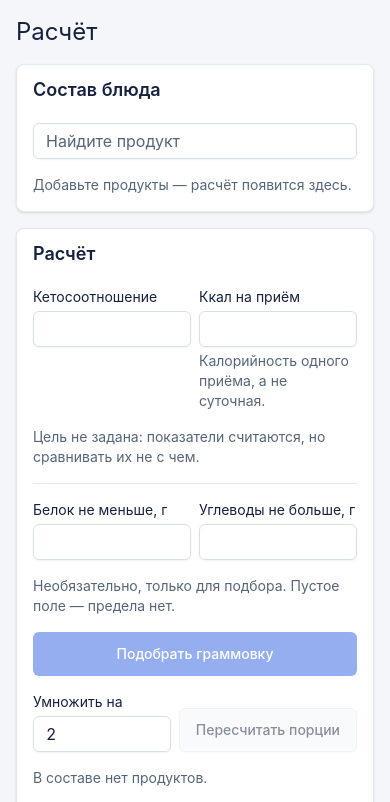
Test: калькулятор в Mini App › о связи говорит один голос: расчёт, а не ещё и поиск
Type "масло" into the search field labelled "Найдите продукт". click: (195, 141)
box: [33,123,357,159]
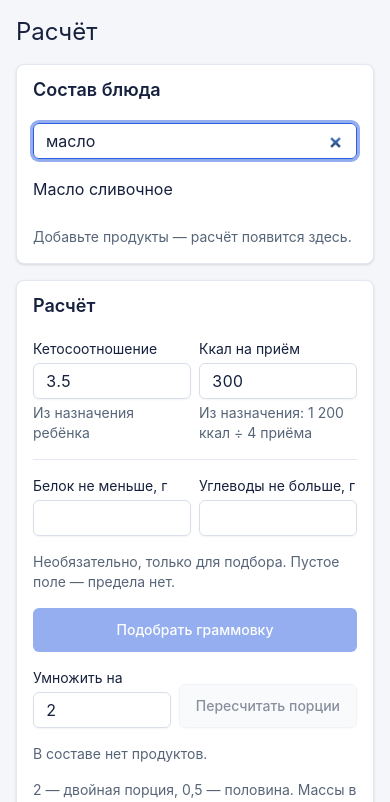
Click the button "Масло сливочное". click: (103, 189)
box: [33,167,357,211]
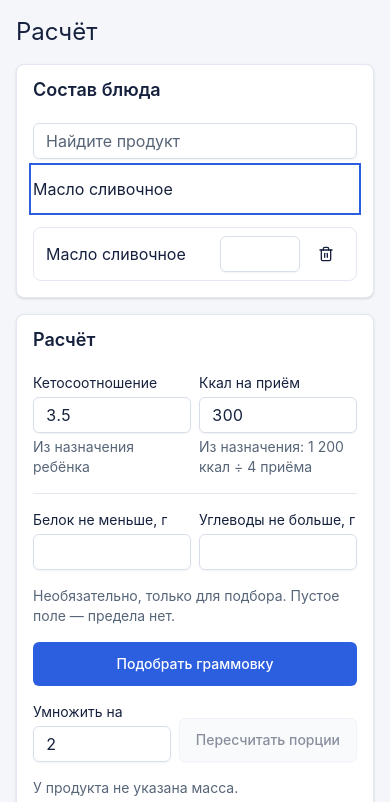
Type "30" into the field named "Масло сливочное, граммы". click: (260, 254)
box: [220,236,300,272]
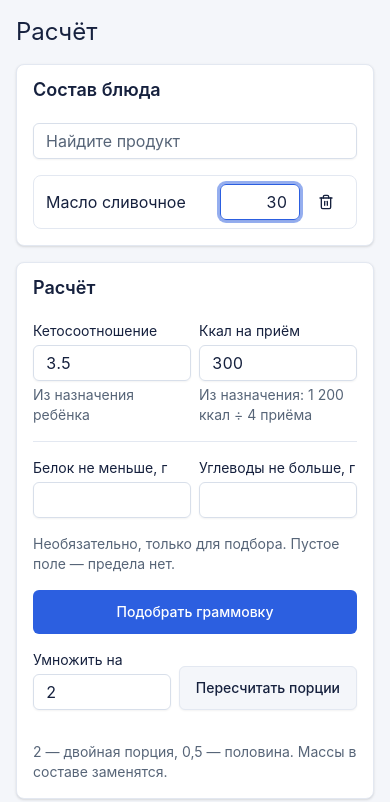
Type "5" into the field named "Масло сливочное, граммы". click: (260, 202)
box: [220,184,300,220]
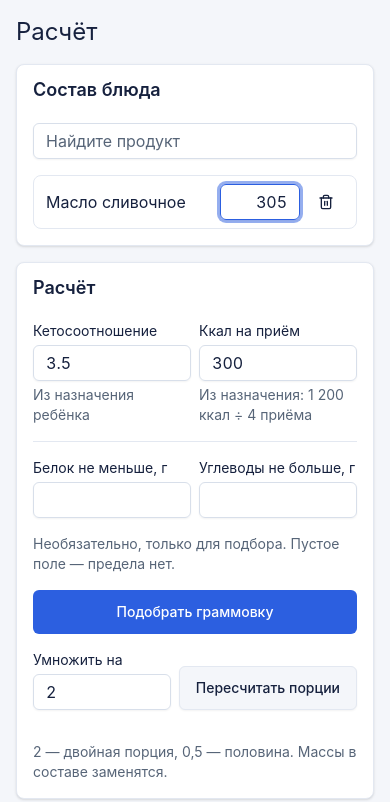
Type "сыр" into the search field labelled "Найдите продукт". click: (195, 141)
box: [33,123,357,159]
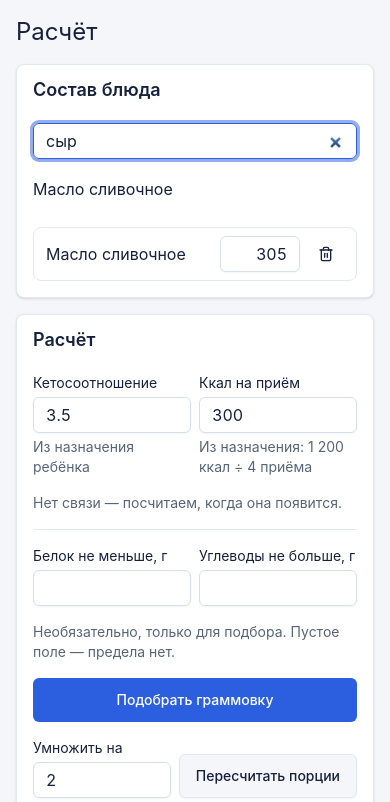
Expected: the text "Нет связи — посчитаем, когда она появится." is shown, [33,493,357,513]
